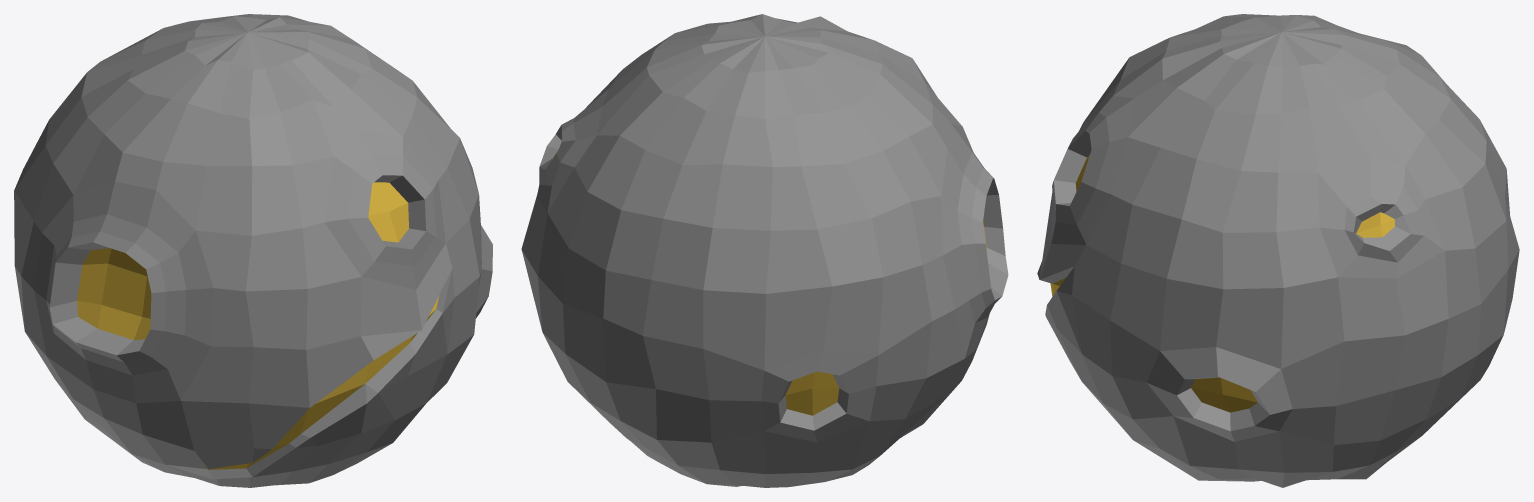
The model's file is planet2.fbx.
3 renders of one model, left to right at view 1: azimuth 30°, elevation 25°; view 2: azimuth 150°, elevation 25°; view 3: azimuth 270°, elevation 25°, orthographic.
Visible parts, largest first — view 1: Sphere; view 2: Sphere; view 3: Sphere.
Part boxes in pixels (x1=…): Sphere: x1=14, y1=14, x2=492, y2=487; Sphere: x1=521, y1=14, x2=1008, y2=487; Sphere: x1=1037, y1=14, x2=1519, y2=487.
Size of the model in its own units: 209 by 202 by 203.
